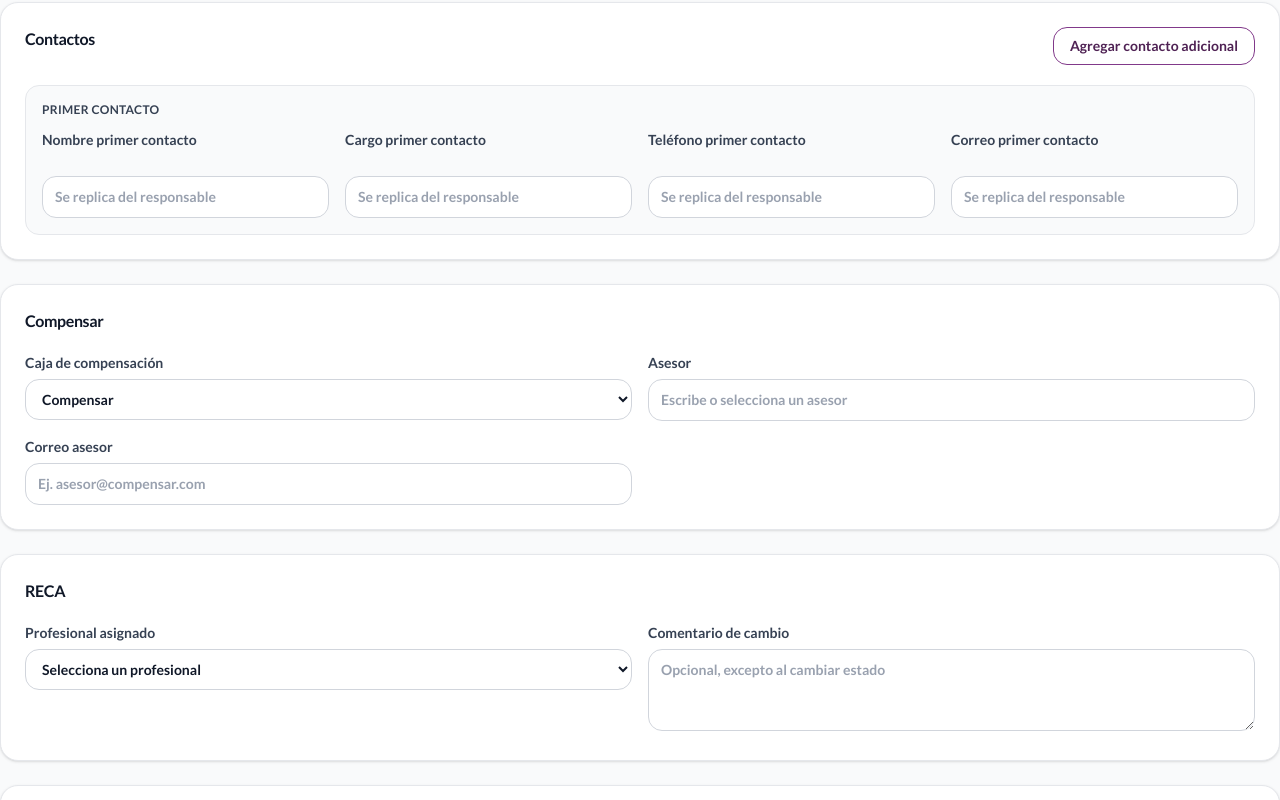
Test: EmpresaForm › autofills asesor email when selecting an existing asesor
The width and height of the screenshot is (1280, 800).
(page scrolled)
Type "Carlos Ruiz" into the field labelled "Asesor" at (952, 400), box [648,379,1255,421]
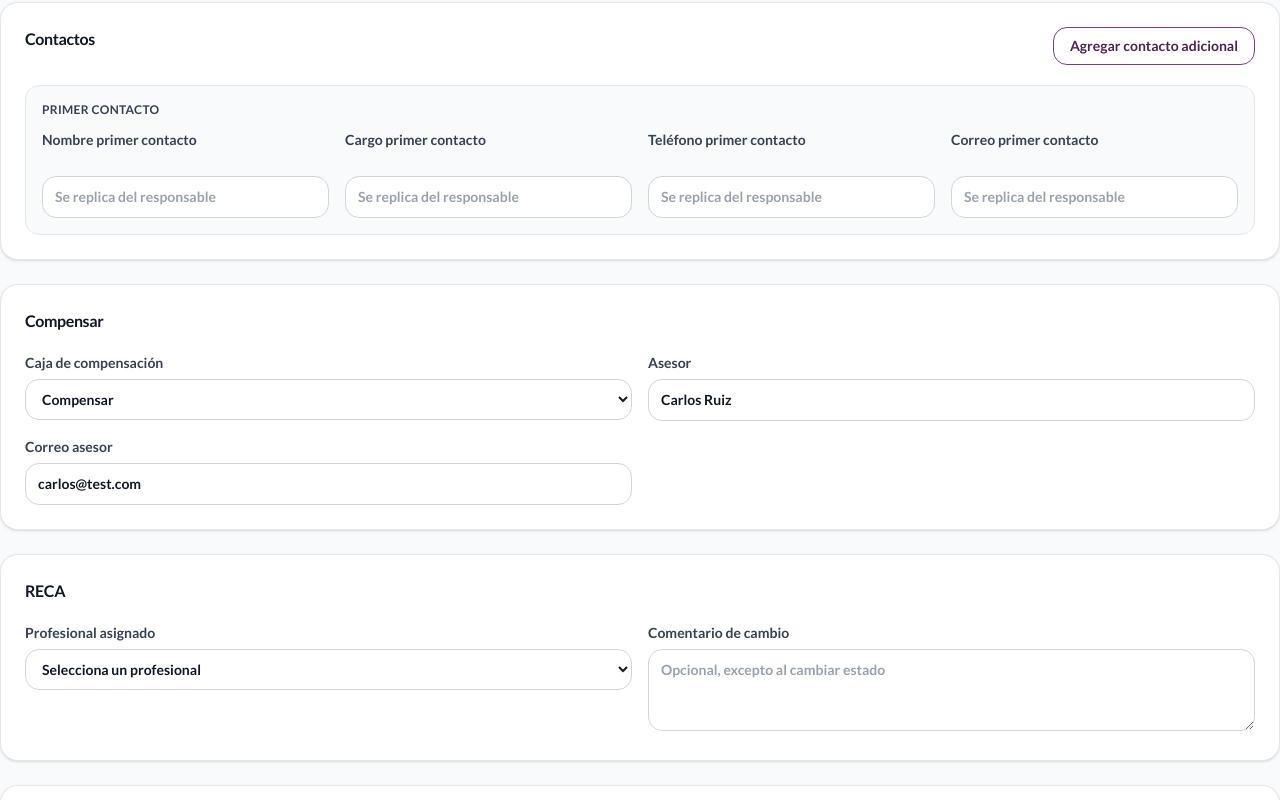
Result: the field labelled "Correo asesor" holds "carlos@test.com" at [25,463,632,505]
